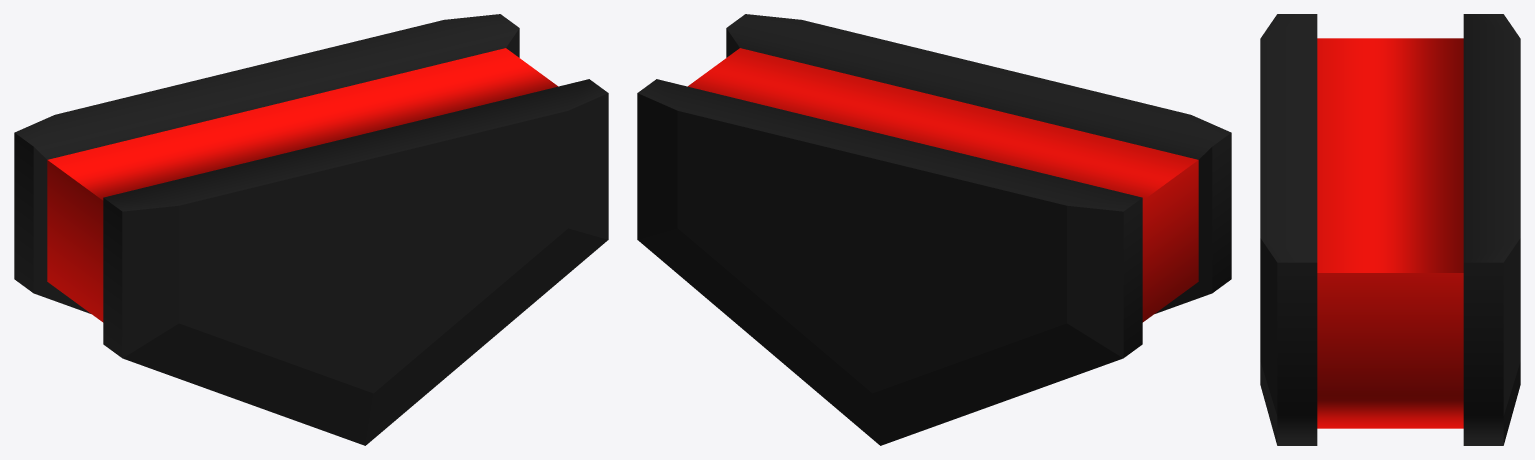
File: Wall_Tile_Half_02.fbx
3 renders of one model, left to right at view 1: azimuth 30°, elevation 25°; view 2: azimuth 150°, elevation 25°; view 3: azimuth 270°, elevation 25°, orthographic. The views are drawn at different scales.
Parts seen in each view (by area): view 1: Wall_Tile_Half_V2; view 2: Wall_Tile_Half_V2; view 3: Wall_Tile_Half_V2.
Part boxes in pixels (bbox=[...]): Wall_Tile_Half_V2: bbox=[14, 14, 608, 445]; Wall_Tile_Half_V2: bbox=[637, 14, 1231, 445]; Wall_Tile_Half_V2: bbox=[1260, 14, 1520, 445].
Size of the model in its own units: 25.98 by 15 by 11.5.
